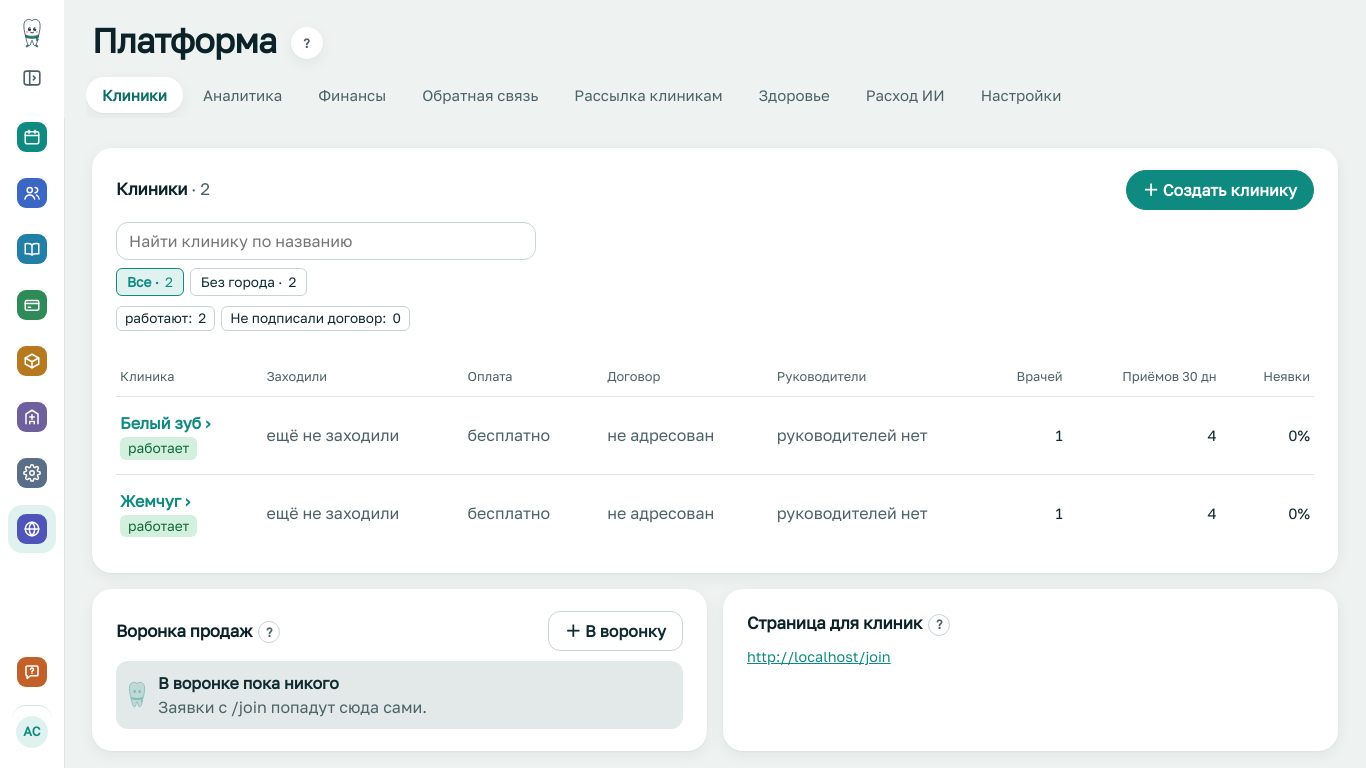
строки «Кому звонить» и «Кто может уйти» открывают «Клиники» с карточкой этой клиники
The image size is (1366, 768).
Later steps or results of the test are not shown.
Expected: the navigation bar named "Разделы" is shown, [8,113,56,553]
Click the link "Аналитика".
click(242, 95)  # box [203,86,282,104]
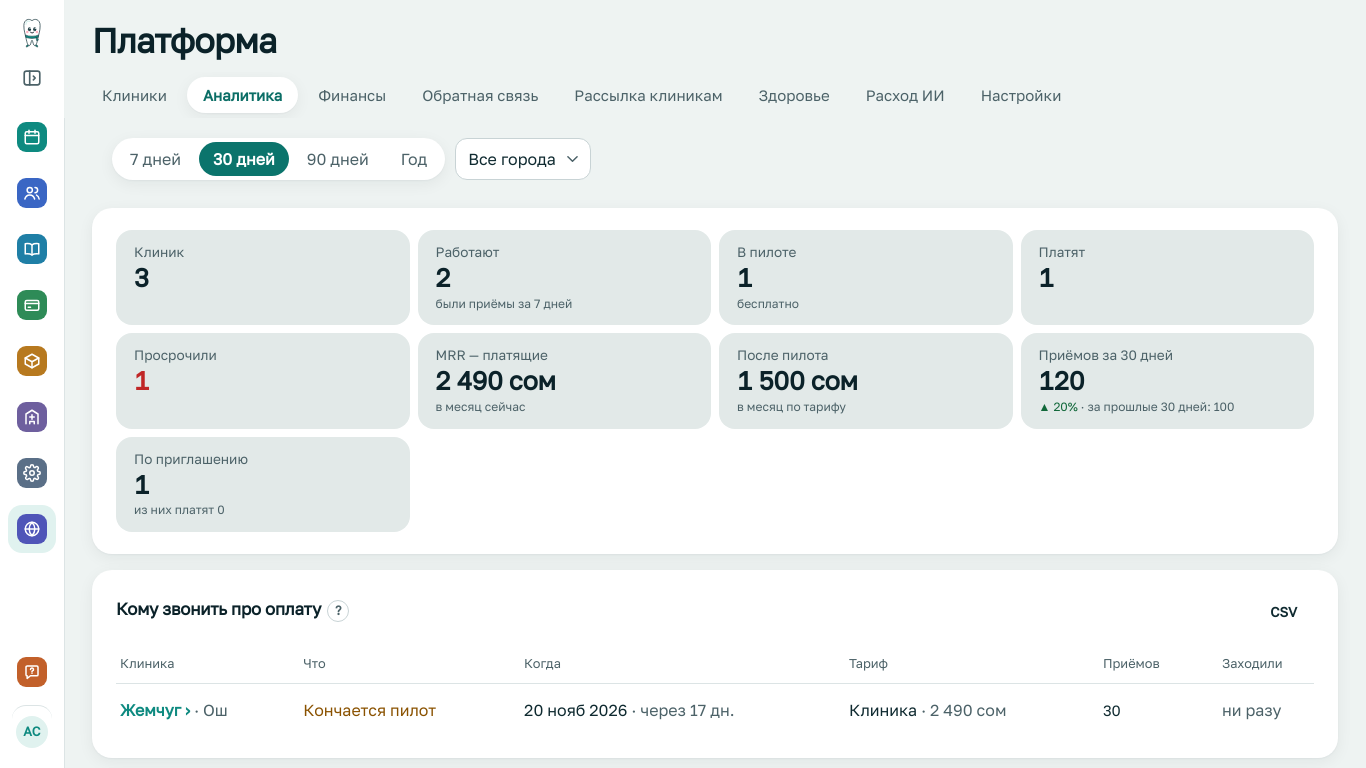
Click the text "через 17 дн.".
click(634, 710)  # box [628,700,734,720]
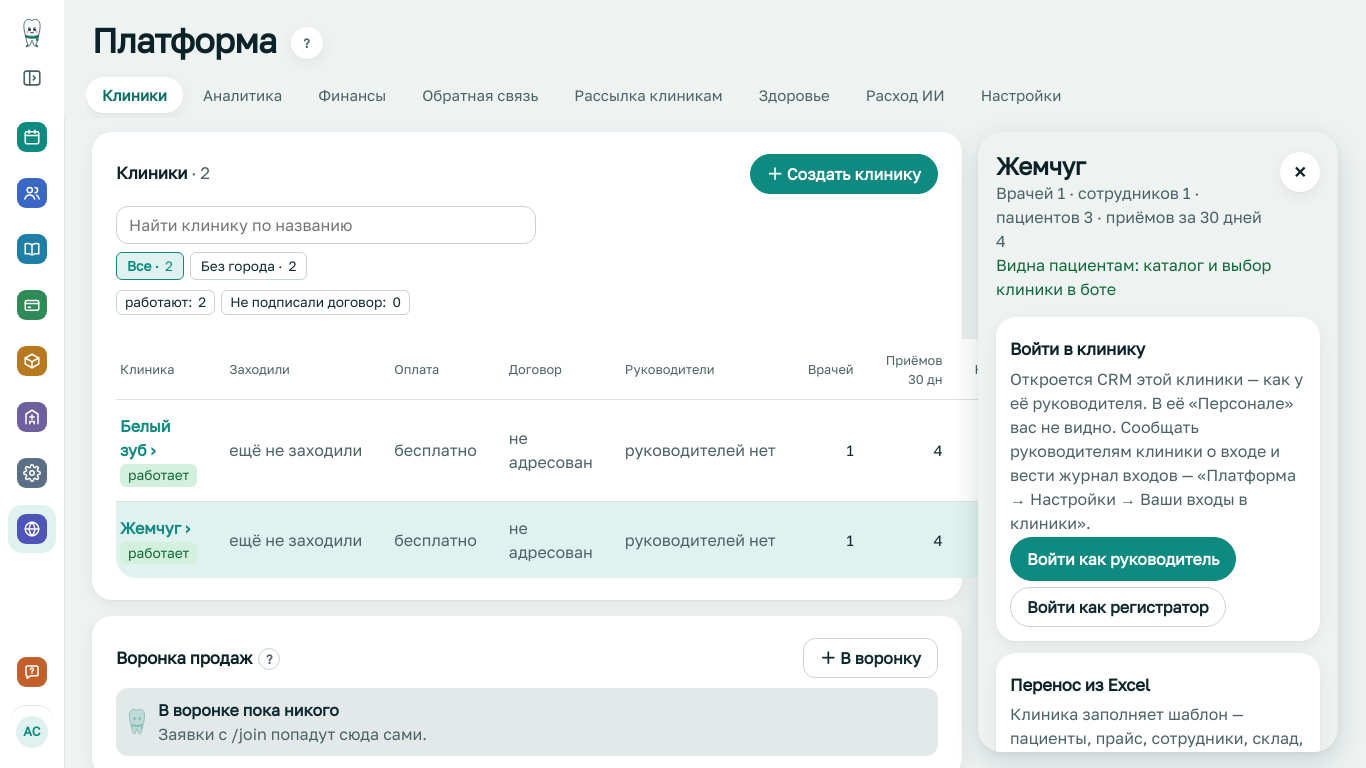
Expected: the heading "Жемчуг" is shown, [996,151,1085,180]
